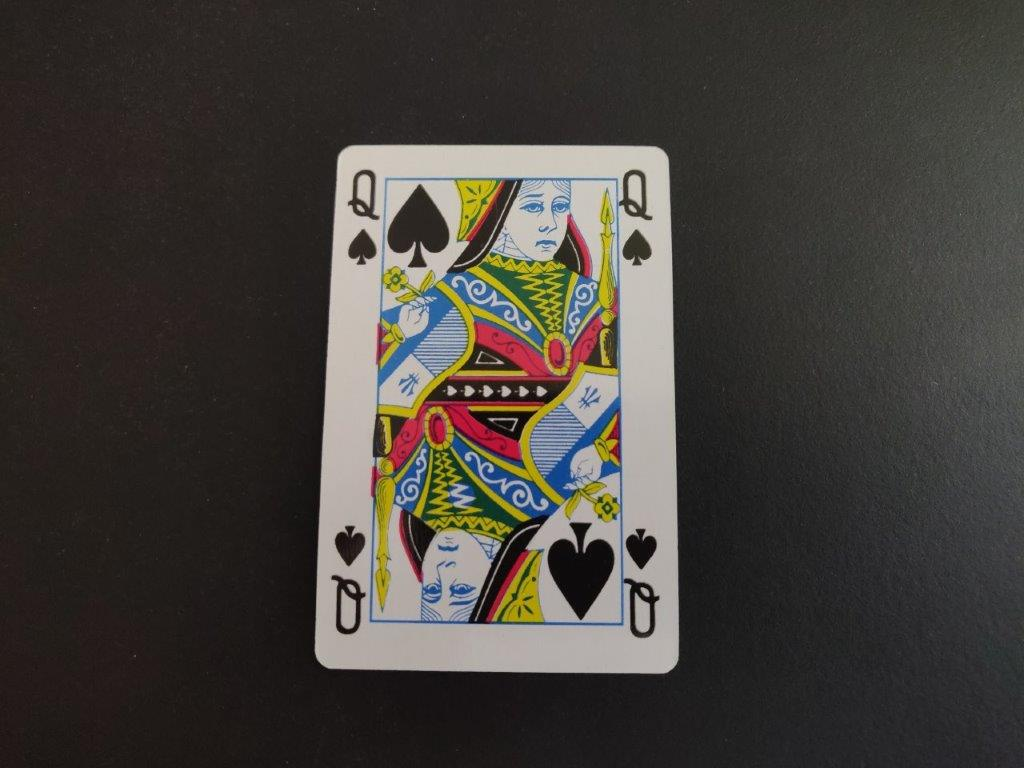QS: (619, 166, 656, 269), (346, 167, 380, 274)
